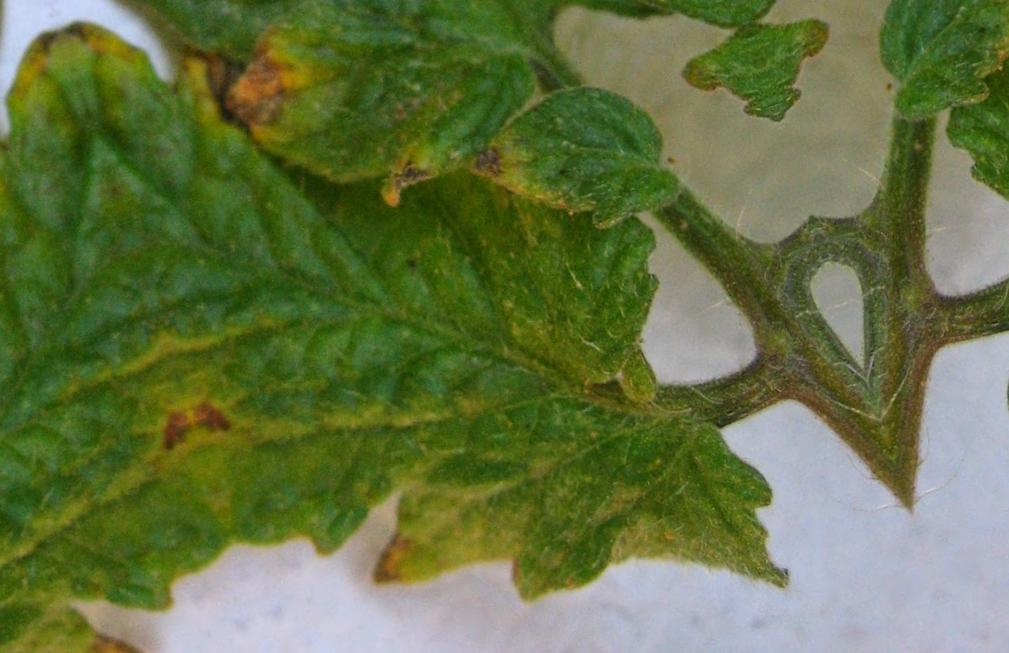Tomato Septoria leaf spot: (34, 0, 894, 653), (35, 0, 803, 653)
